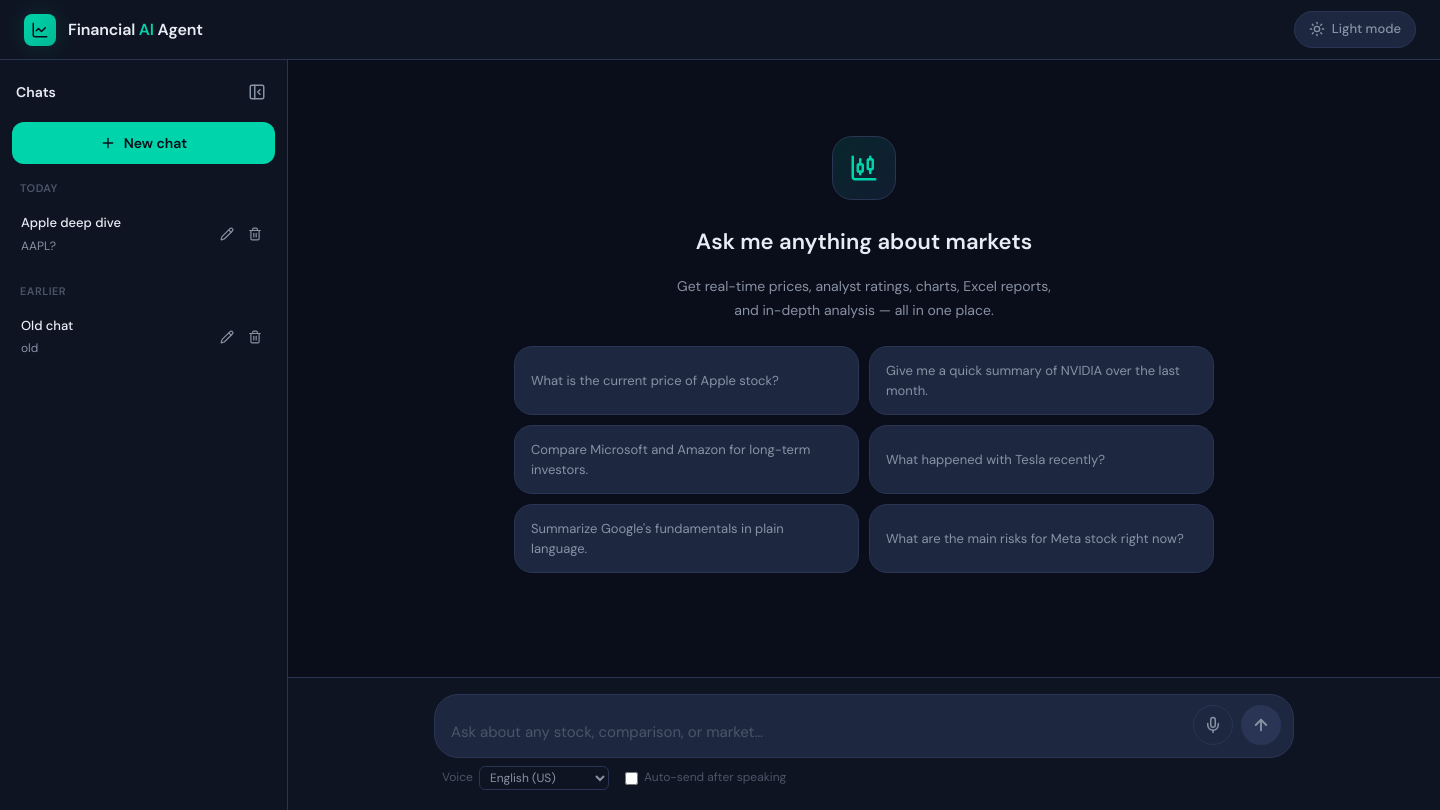
Test: App sidebar › deletes a chat after confirmation
This screenshot has width=1440, height=810.
Expected: the text "Old chat" is shown, [21,317,73,334]
Click the button named "Delete Old chat" at {"x": 255, "y": 337}, box [242,324,268,350]
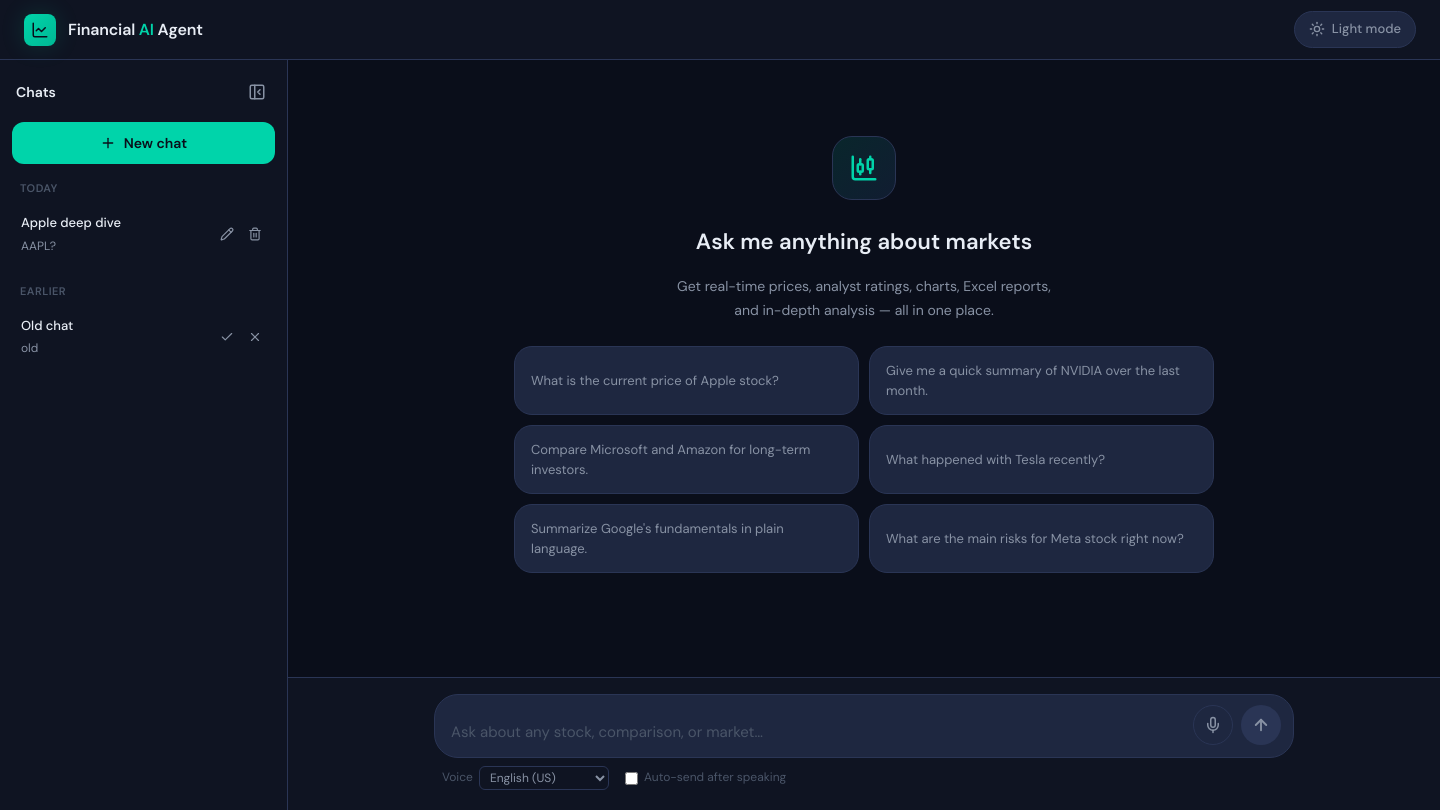
Click the button named "Confirm delete Old chat" at {"x": 227, "y": 337}, box [214,324,240,350]
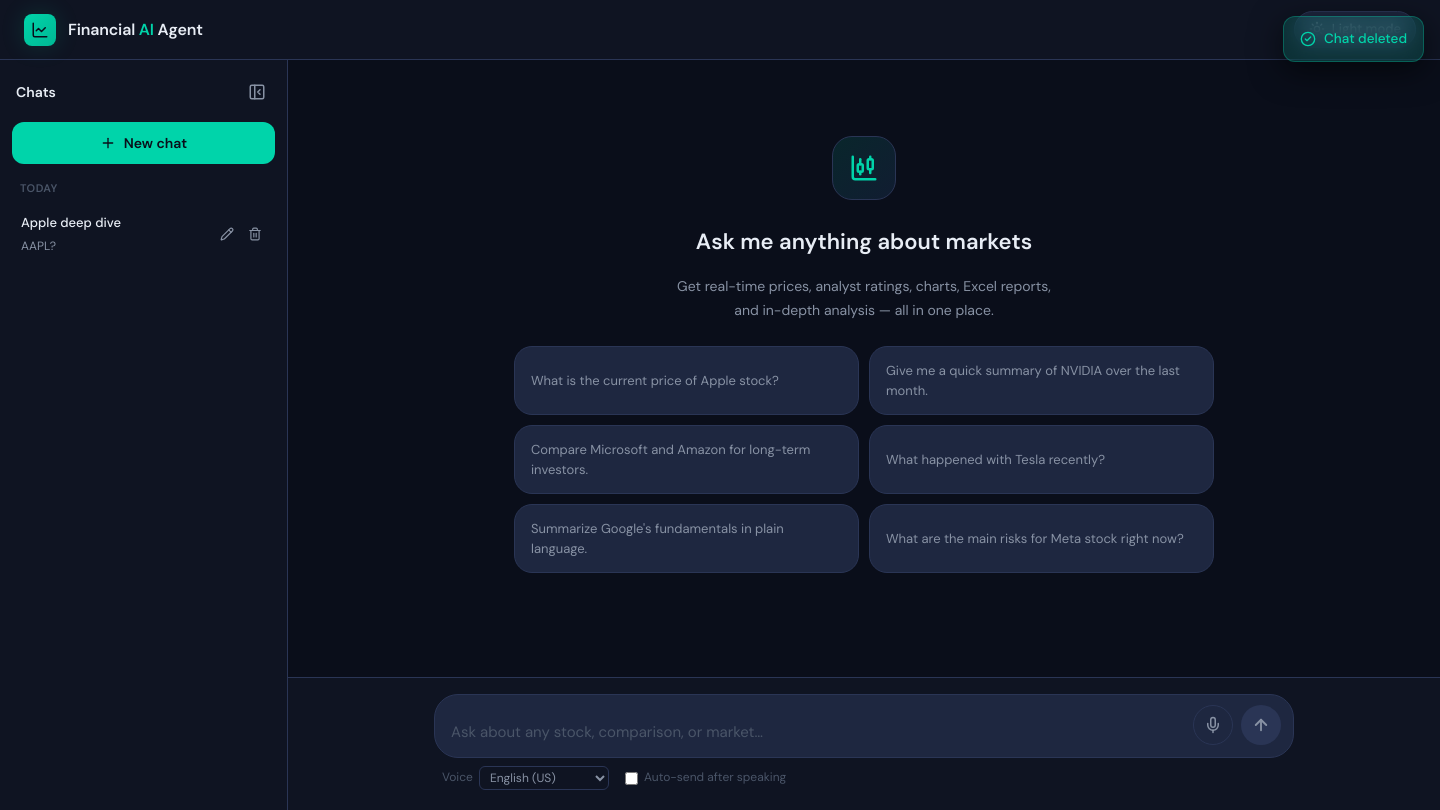
Expected: the button "Old chat" is gone
